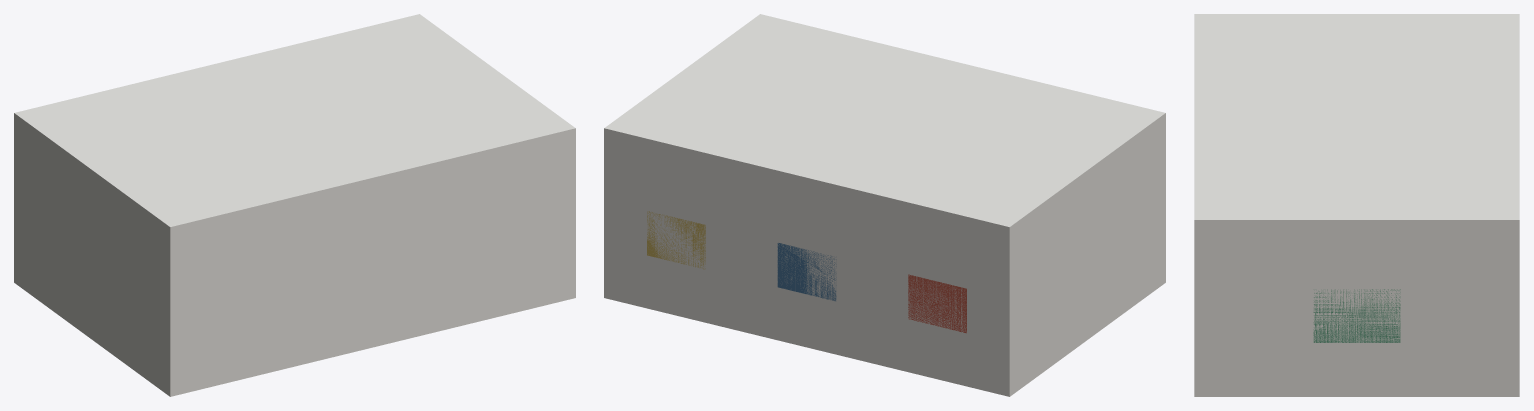
File: room.glb
The picture shows the model from 3 angles, left to right: view 1: azimuth 30°, elevation 25°; view 2: azimuth 150°, elevation 25°; view 3: azimuth 270°, elevation 25°; orthographic projection. The views are drawn at different scales.
Visible parts, largest first — view 1: room; view 2: room; view 3: room.
Boxes of the visible parts, left/top/right/bottom form: room: left=14, top=14, right=575, bottom=396; room: left=604, top=14, right=1165, bottom=396; room: left=1194, top=14, right=1519, bottom=396.
Size of the model in its own units: 9 by 3.6 by 6.
